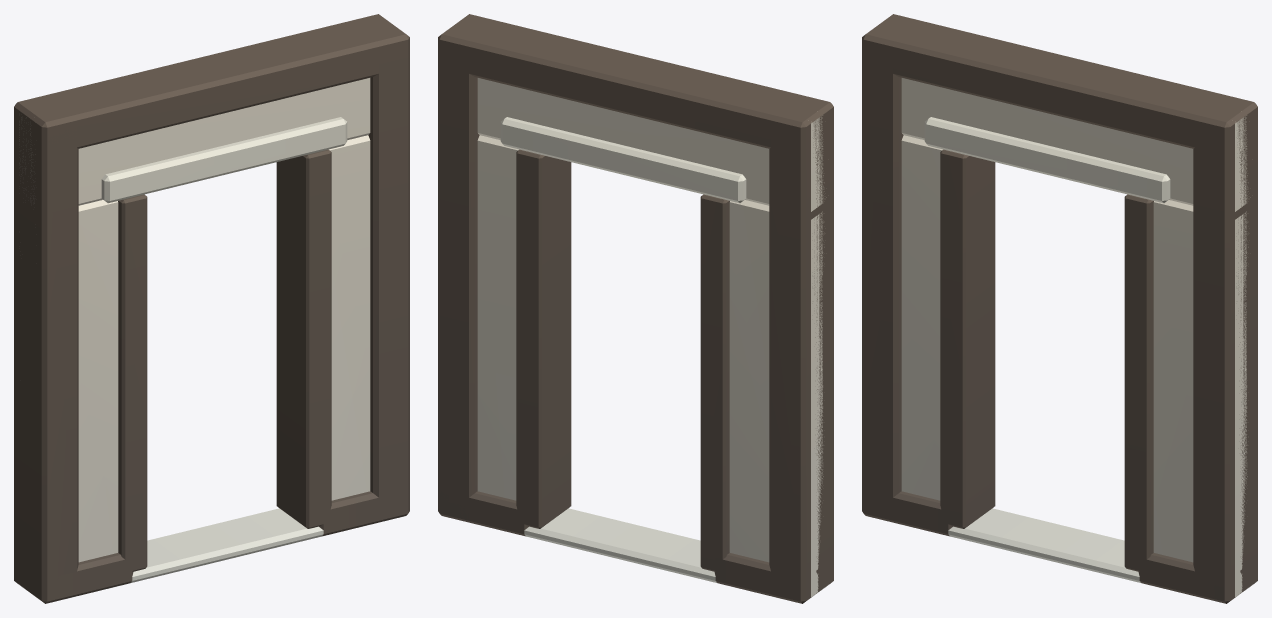
Rendered from Kit_WallDoor.glb.
3 renders of one model, left to right at view 1: azimuth 30°, elevation 25°; view 2: azimuth 150°, elevation 25°; view 3: azimuth 330°, elevation 25°, orthographic.
Visible parts, largest first — view 1: Weathered walnut beams, Warm limewashed plaster, Carved pale limestone; view 2: Weathered walnut beams, Warm limewashed plaster, Carved pale limestone; view 3: Weathered walnut beams, Warm limewashed plaster, Carved pale limestone.
Part boxes in pixels (left/top/right/bottom): Weathered walnut beams: left=14, top=14, right=409, bottom=603; Warm limewashed plaster: left=19, top=78, right=370, bottom=562; Carved pale limestone: left=101, top=117, right=347, bottom=582; Weathered walnut beams: left=438, top=14, right=833, bottom=603; Warm limewashed plaster: left=477, top=78, right=826, bottom=597; Carved pale limestone: left=500, top=117, right=746, bottom=582; Weathered walnut beams: left=862, top=14, right=1257, bottom=603; Warm limewashed plaster: left=901, top=78, right=1250, bottom=597; Carved pale limestone: left=924, top=117, right=1170, bottom=582.
Bounding box in the file's own units: 2 × 2.5 × 0.3.
